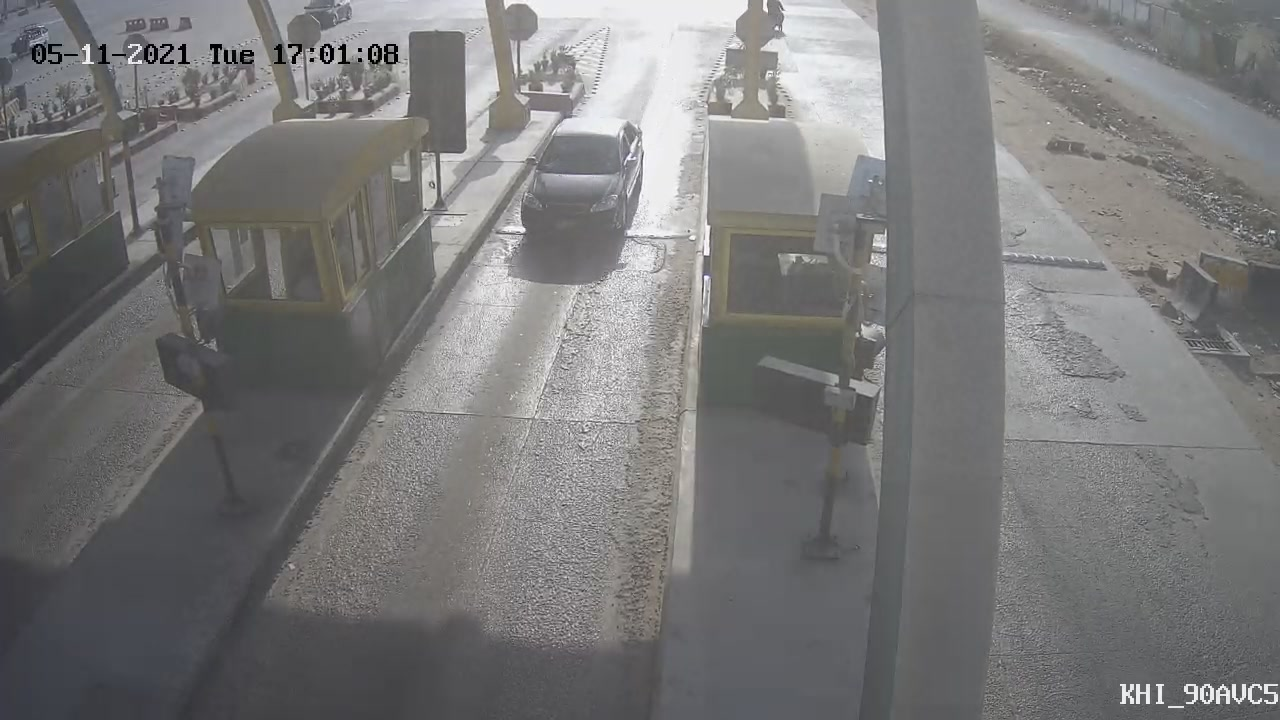F1: (496, 90, 663, 270)
